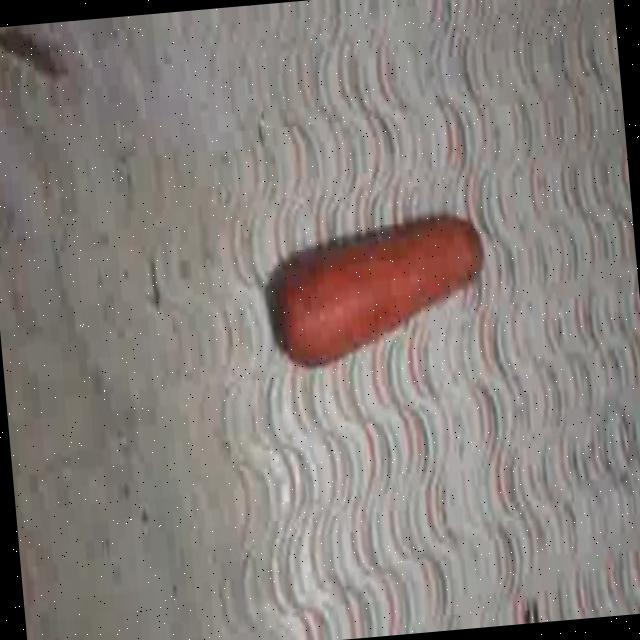carrot: (266, 216, 482, 363)
